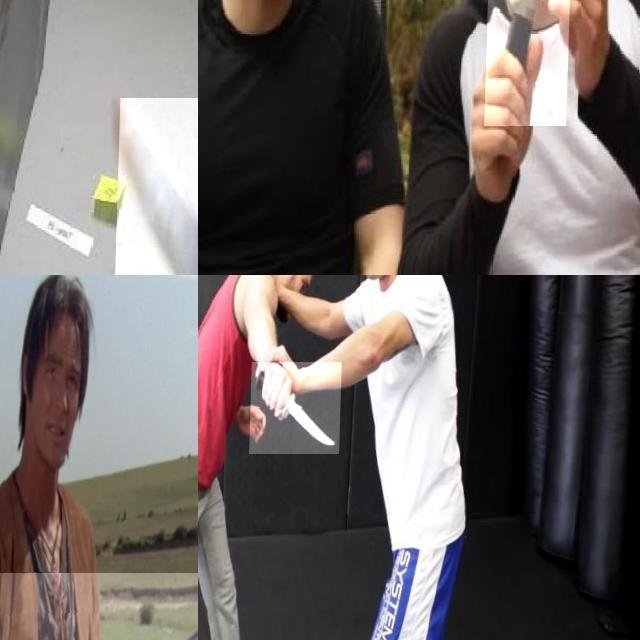-: (115, 98, 198, 275), (486, 0, 576, 160), (252, 362, 344, 454)
